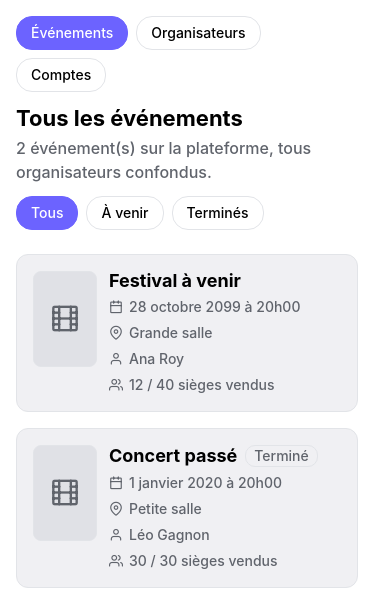
SupervisionScreen : comptes (#20) › liste les comptes avec leur statut, chargés avec le jeton de l’administrateur
This screenshot has width=375, height=605.
Click the button "Comptes".
click(61, 75)  # box [16,58,106,92]
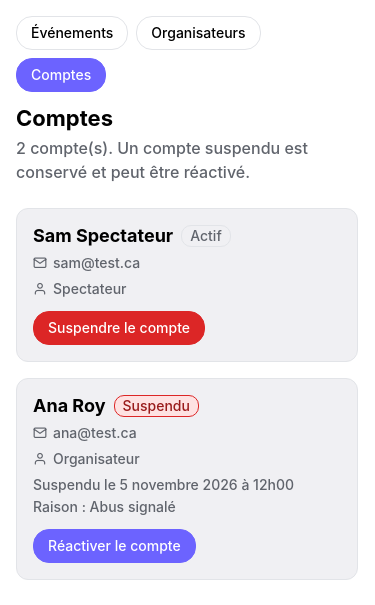
Now the text "Actif" is shown, box [190,226,222,246]
Now the text "Suspendu" is shown, box [122,396,190,416]
Now the text "Raison : Abus signalé" is shown, box [33,498,176,515]
